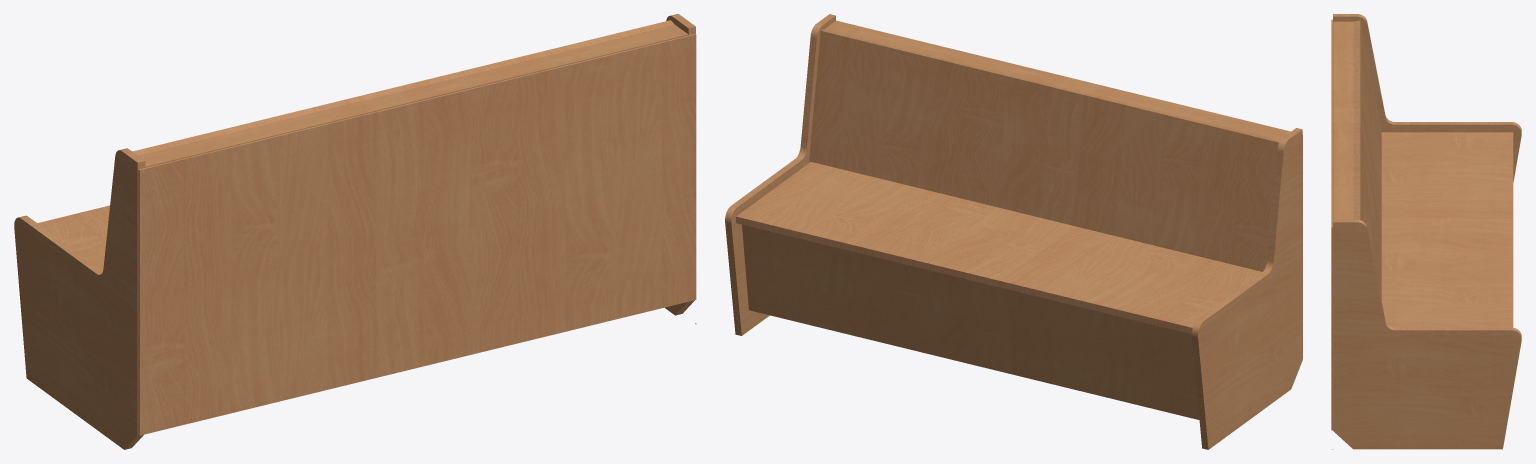
The model's file is divan_malvina_1_derevo.glb.
The picture shows the model from 3 angles, left to right: view 1: azimuth 30°, elevation 25°; view 2: azimuth 150°, elevation 25°; view 3: azimuth 270°, elevation 25°; orthographic projection. The views are drawn at different scales.
Parts seen in each view (by area): view 1: Shape_IndexedFaceSet.007_NON, Shape_IndexedFaceSet.005, Shape_IndexedFaceSet.003, Shape_IndexedFaceSet, Shape_IndexedFaceSet.002; view 2: Shape_IndexedFaceSet, Shape_IndexedFaceSet.001, Shape_IndexedFaceSet.002, Shape_IndexedFaceSet.005, Shape_IndexedFaceSet.003, Shape_IndexedFaceSet.006, Shape_IndexedFaceSet.007_NON; view 3: Shape_IndexedFaceSet.006, Shape_IndexedFaceSet.002, Shape_IndexedFaceSet, Shape_IndexedFaceSet.003, Shape_IndexedFaceSet.005, Shape_IndexedFaceSet.007_NON.
Part boxes in pixels (bbox=[...]): Shape_IndexedFaceSet.007_NON: bbox=[138, 33, 696, 435]; Shape_IndexedFaceSet.005: bbox=[14, 148, 145, 449]; Shape_IndexedFaceSet.003: bbox=[138, 24, 688, 167]; Shape_IndexedFaceSet: bbox=[132, 20, 674, 155]; Shape_IndexedFaceSet.002: bbox=[37, 205, 109, 270]; Shape_IndexedFaceSet: bbox=[809, 29, 1279, 271]; Shape_IndexedFaceSet.001: bbox=[742, 224, 1199, 419]; Shape_IndexedFaceSet.002: bbox=[736, 162, 1262, 334]; Shape_IndexedFaceSet.005: bbox=[1191, 128, 1302, 449]; Shape_IndexedFaceSet.003: bbox=[825, 21, 1290, 140]; Shape_IndexedFaceSet.006: bbox=[725, 14, 835, 335]; Shape_IndexedFaceSet.007_NON: bbox=[836, 20, 1302, 358]; Shape_IndexedFaceSet.006: bbox=[1333, 219, 1521, 449]; Shape_IndexedFaceSet.002: bbox=[1381, 132, 1513, 327]; Shape_IndexedFaceSet: bbox=[1353, 20, 1381, 299]; Shape_IndexedFaceSet.003: bbox=[1333, 21, 1353, 219]; Shape_IndexedFaceSet.005: bbox=[1333, 14, 1521, 219]; Shape_IndexedFaceSet.007_NON: bbox=[1331, 19, 1332, 430].
Size of the model in its own units: 1201 by 611 by 464.
Materials: 9 (8 with a texture image).
